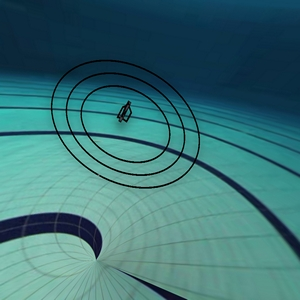circle: (38, 52, 209, 192)
submarine: (103, 95, 144, 129)
